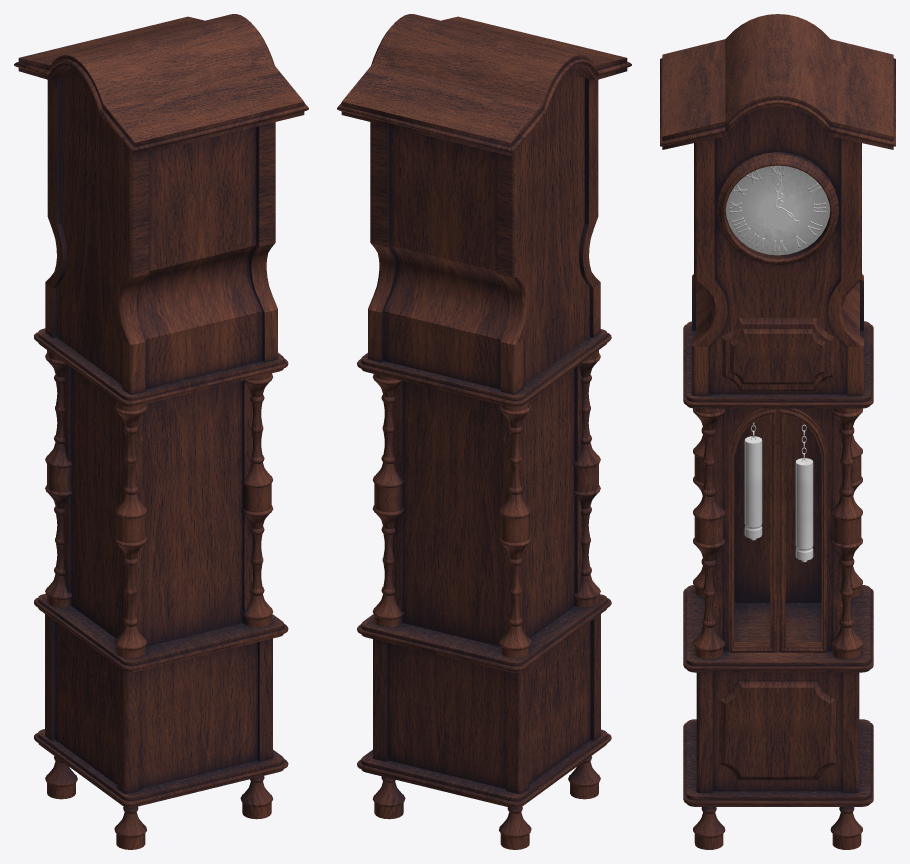
3 views of the same model, side by side, from view 1: azimuth 30°, elevation 25°; view 2: azimuth 150°, elevation 25°; view 3: azimuth 270°, elevation 25° (orthographic).
Visible parts, largest first — view 1: Base; view 2: Base; view 3: Base, ClockBg, IronDetails, Glass.
Boxes of the visible parts, <box> form: Base: <box>14,14,308,849</box>; Base: <box>337,14,631,849</box>; Base: <box>660,14,895,849</box>; ClockBg: <box>725,165,830,255</box>; IronDetails: <box>729,165,825,562</box>; Glass: <box>726,166,829,646</box>.
Bounding box in the file's own units: 3.85 × 15.96 × 4.49.
Materials: 4 (2 with a texture image).
